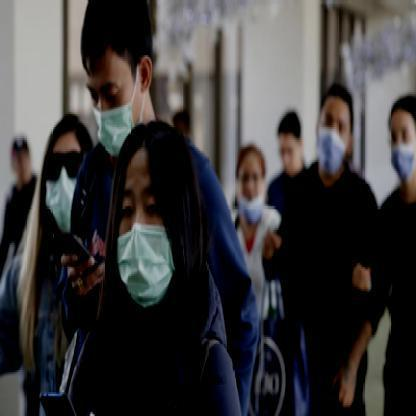mask_weared_incorrect: (235, 166, 264, 223)
with_mask: (113, 173, 177, 309), (44, 140, 86, 232), (316, 105, 350, 169), (388, 120, 415, 179)
without_mask: (277, 134, 301, 174)
